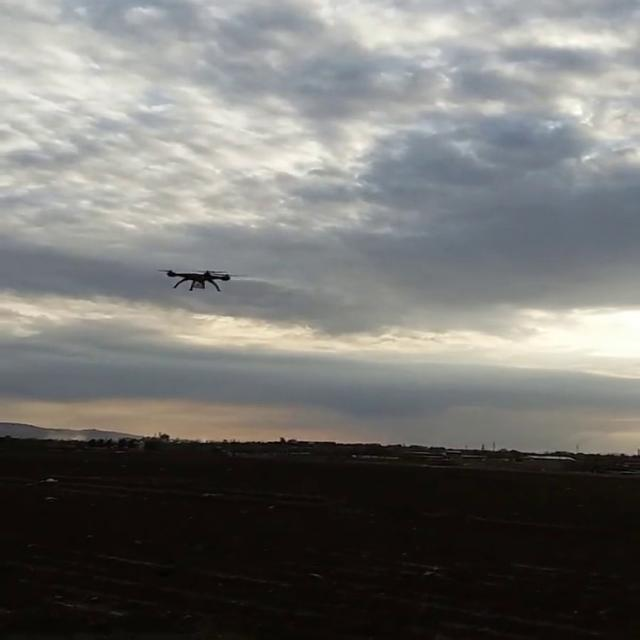drone: (157, 263, 242, 293)
